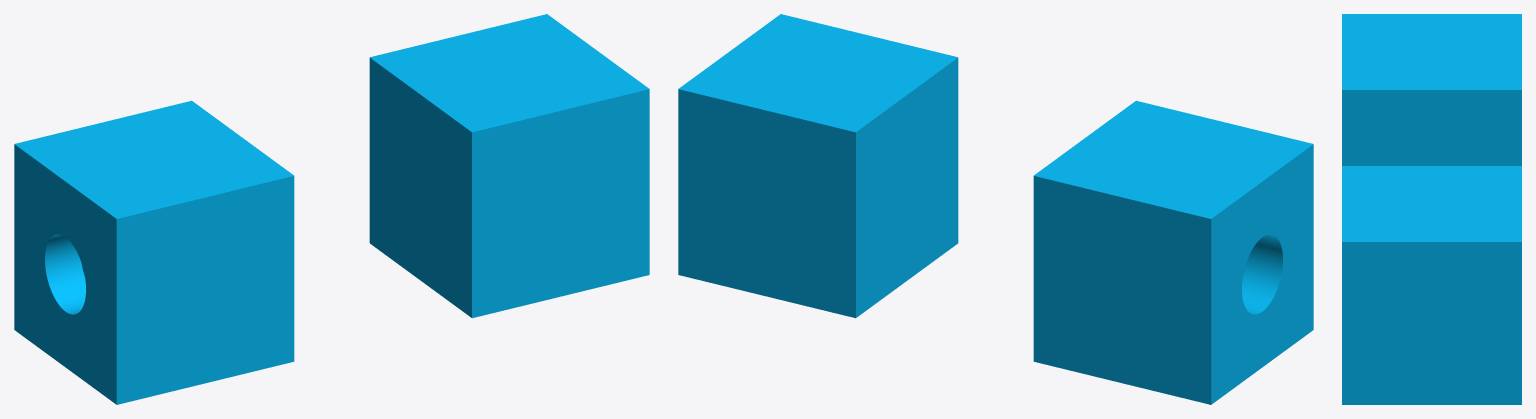
Rendered from indexed_gt_X_0_cep.gltf.
3 renders of one model, left to right at view 1: azimuth 30°, elevation 25°; view 2: azimuth 150°, elevation 25°; view 3: azimuth 270°, elevation 25°, orthographic. The views are drawn at different scales.
Visible parts, largest first — view 1: Open CASCADE STEP translator 7.8 4.1, Open CASCADE STEP translator 7.8 4.2; view 2: Open CASCADE STEP translator 7.8 4.1, Open CASCADE STEP translator 7.8 4.2; view 3: Open CASCADE STEP translator 7.8 4.2, Open CASCADE STEP translator 7.8 4.1.
Part boxes in pixels (left/top/right/bottom): Open CASCADE STEP translator 7.8 4.1: left=14, top=100, right=294, bottom=404; Open CASCADE STEP translator 7.8 4.2: left=369, top=14, right=649, bottom=318; Open CASCADE STEP translator 7.8 4.1: left=1033, top=100, right=1313, bottom=404; Open CASCADE STEP translator 7.8 4.2: left=678, top=14, right=958, bottom=318; Open CASCADE STEP translator 7.8 4.2: left=1342, top=166, right=1521, bottom=404; Open CASCADE STEP translator 7.8 4.1: left=1342, top=14, right=1521, bottom=165.
Bounding box in the file's own units: 0.015 × 0.005 × 0.005.
